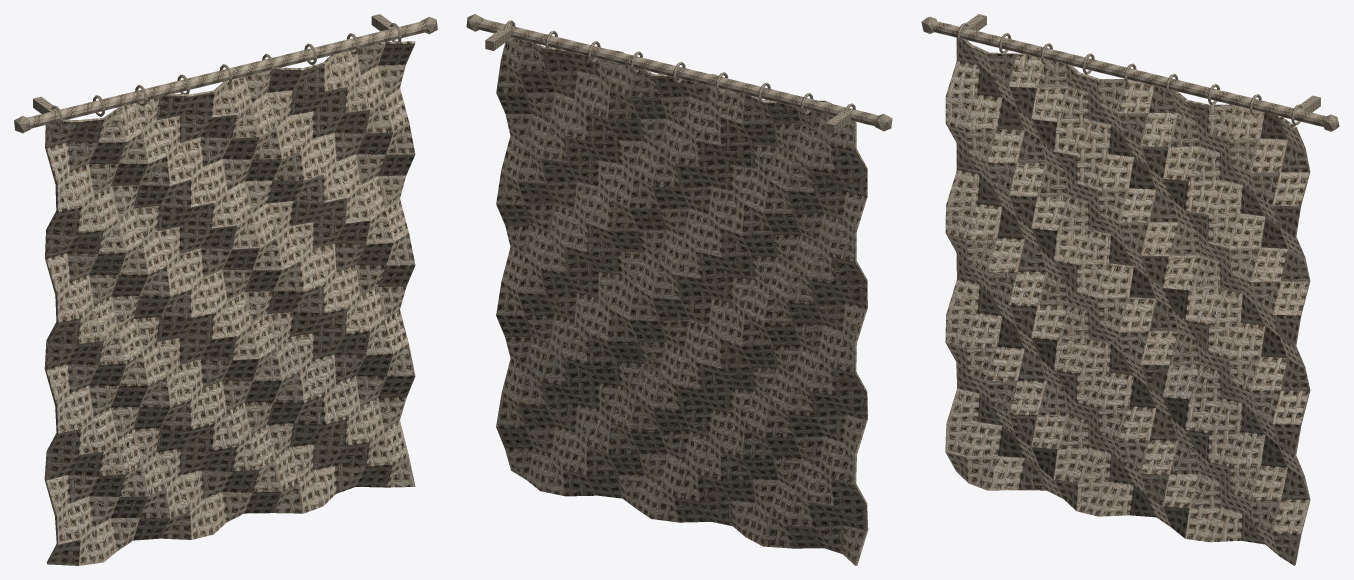
File: cloth-curtain-v01.glb
The picture shows the model from 3 angles, left to right: view 1: azimuth 30°, elevation 25°; view 2: azimuth 150°, elevation 25°; view 3: azimuth 330°, elevation 25°; orthographic projection.
Parts seen in each view (by area): view 1: cloth-curtain; view 2: cloth-curtain; view 3: cloth-curtain.
Boxes of the visible parts, box(x1,y1,x2,y2) form: cloth-curtain: box(14, 14, 437, 565); cloth-curtain: box(466, 14, 892, 565); cloth-curtain: box(921, 14, 1339, 565).
Bounding box in the file's own units: 2.49 × 2.58 × 0.32.
Materials: 3 (3 with a texture image).
